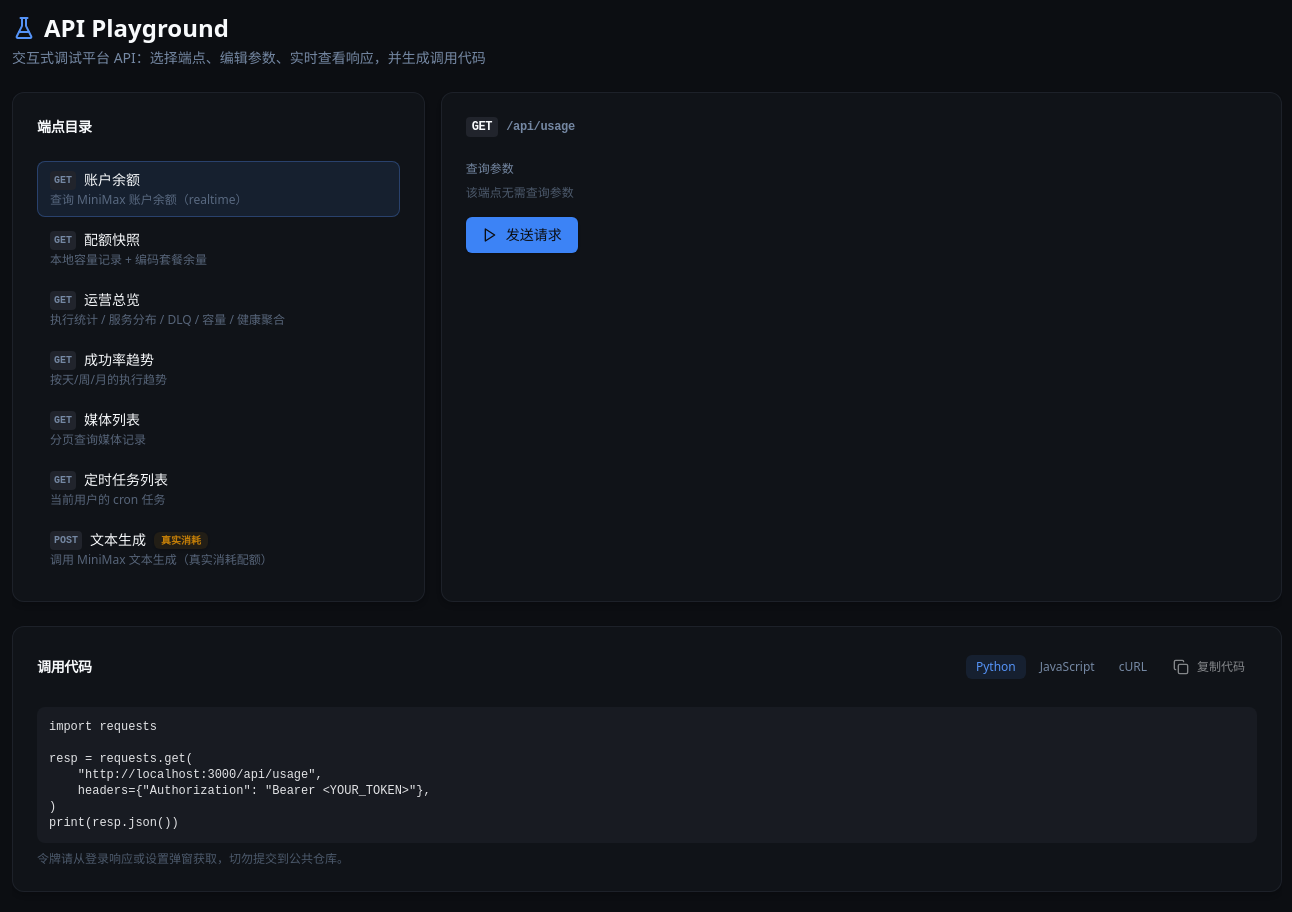
Test: Playground › GET 请求带查询参数发送并展示响应
The width and height of the screenshot is (1292, 912).
# 切到成功率趋势（有 period 参数）
Click the button with test id "endpoint-success-rate" at (119, 360), box [37, 341, 400, 397]
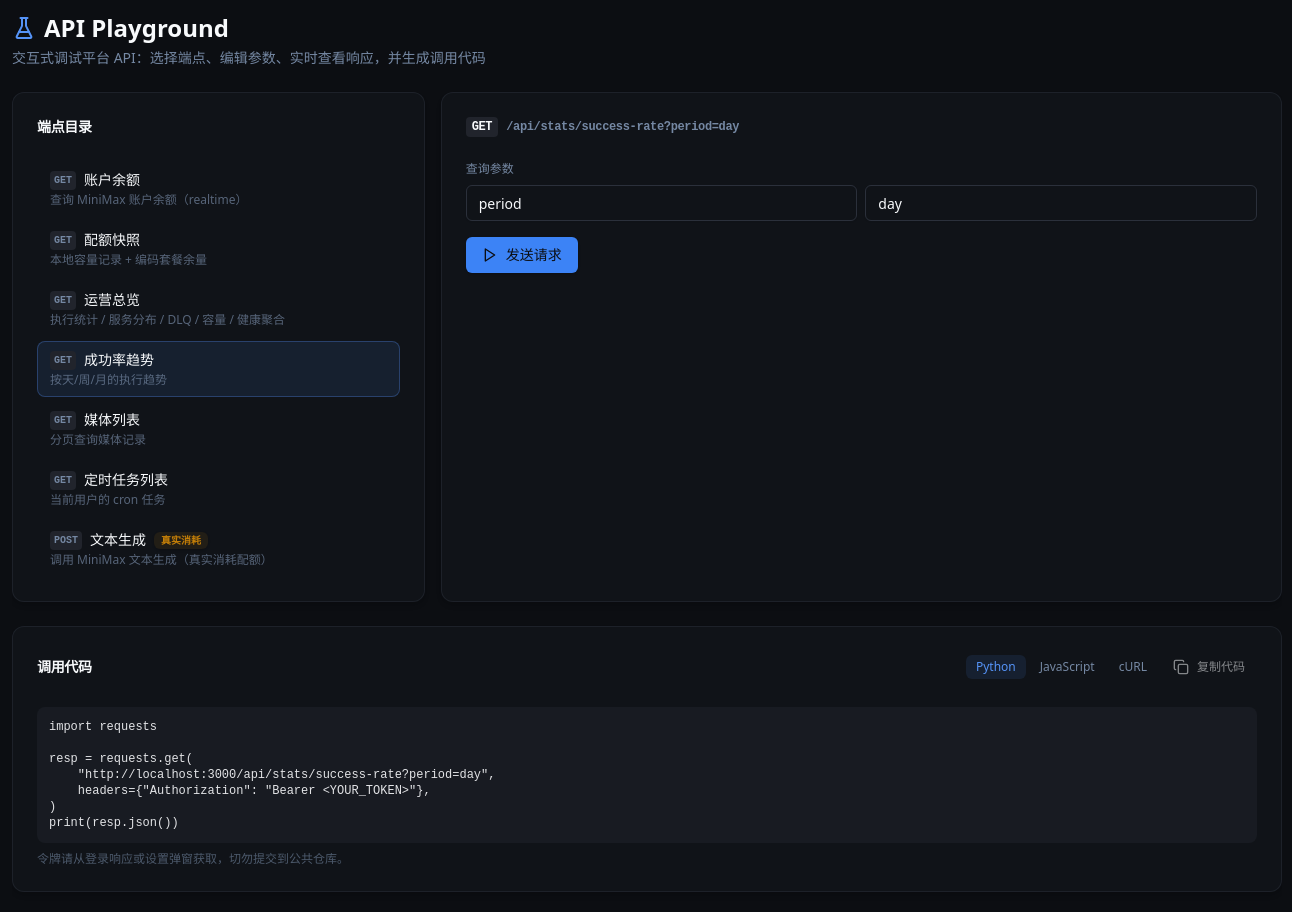
Click the button "发送请求" at (522, 255), box [466, 237, 578, 273]
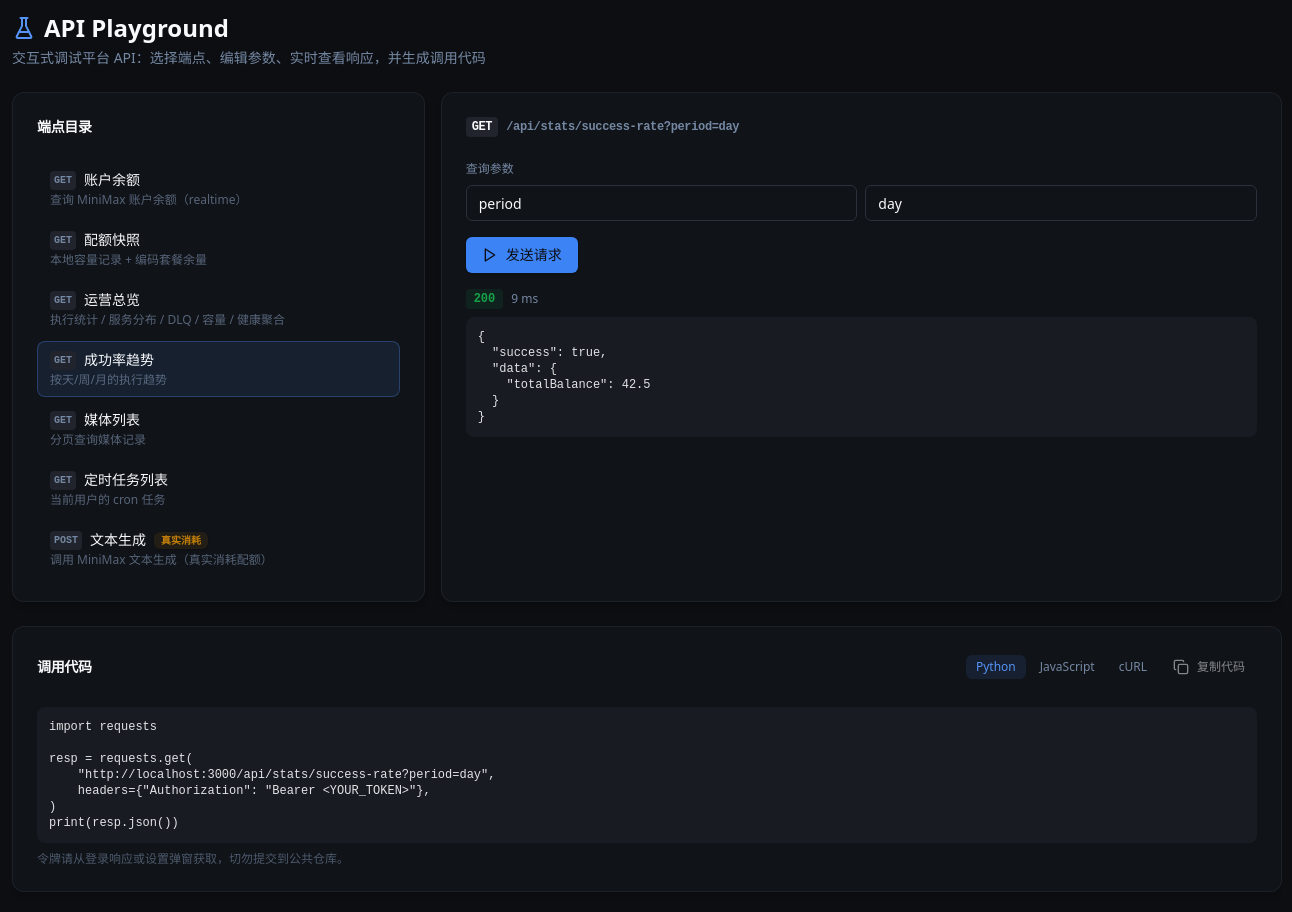
Now the element with test id "playground-response" is shown, box [466, 289, 1257, 437]
Now the text "200" is shown, box [466, 289, 503, 309]
Now the text "{ \"success\": true, \"data\": { \"totalBalance\": 42.5 } }" is shown, box [466, 317, 1257, 437]
